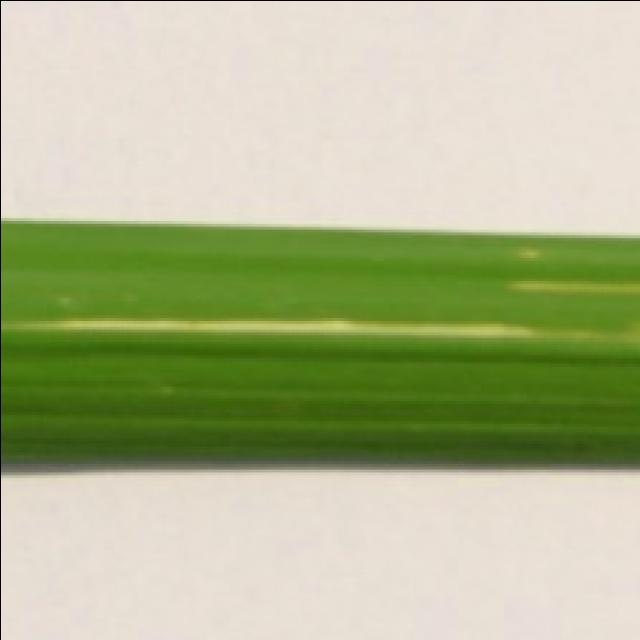Unhealthy: (0, 317, 640, 341), (506, 280, 640, 293), (516, 246, 545, 259)
